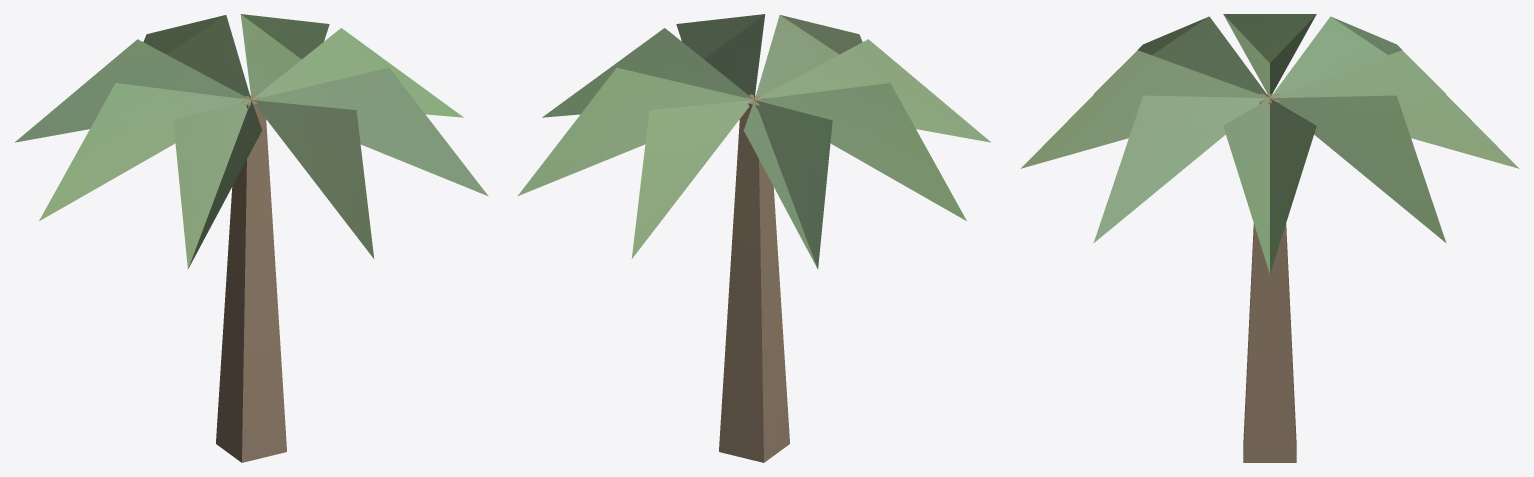
The model's file is palm-2.glb.
3 views of the same model, side by side, from view 1: azimuth 30°, elevation 25°; view 2: azimuth 150°, elevation 25°; view 3: azimuth 270°, elevation 25° (orthographic).
Size of the model in its own units: 2.75 by 2.32 by 2.75.
